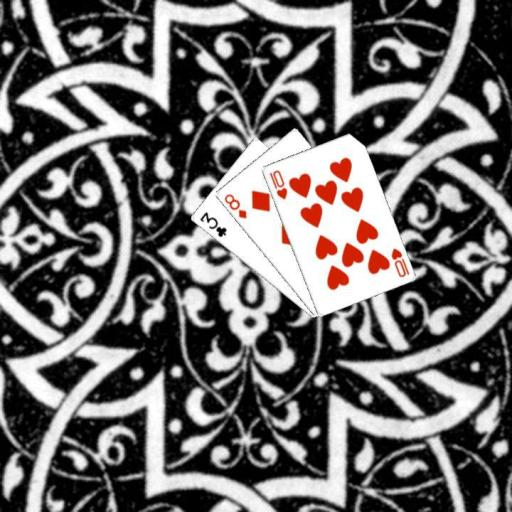10H: (266, 167, 289, 201), (388, 245, 411, 279)
3C: (197, 208, 229, 239)
8D: (221, 191, 248, 221)
